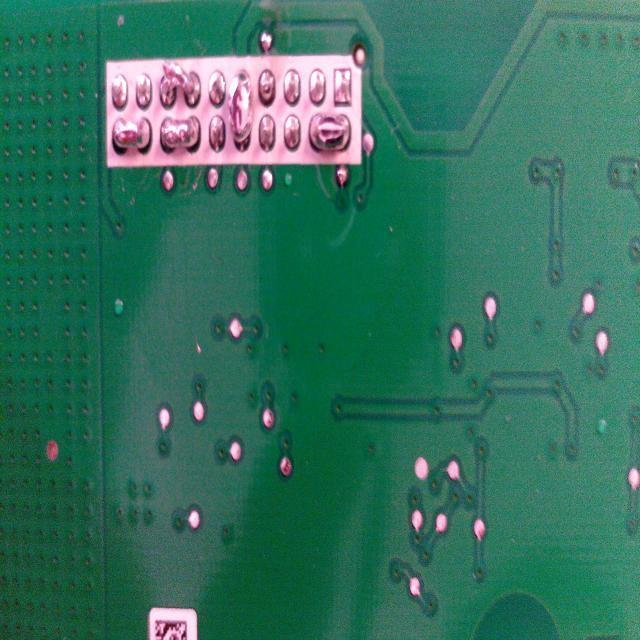Soldering shorted: (228, 69, 255, 150), (158, 60, 202, 109), (308, 110, 356, 154), (109, 116, 156, 158), (160, 114, 202, 156)
